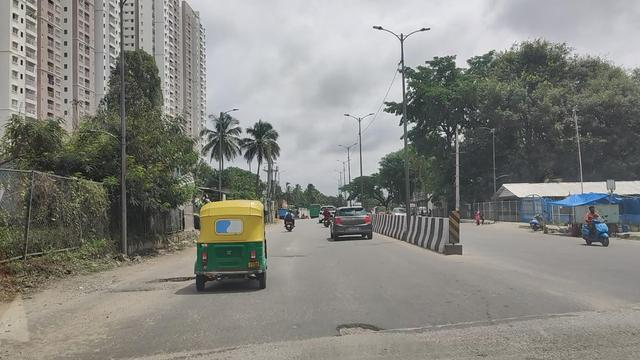LMV: (196, 200, 269, 287), (333, 208, 374, 238), (284, 211, 296, 229)
RoadDamages: (123, 271, 197, 293), (335, 314, 383, 341), (274, 249, 302, 263)
